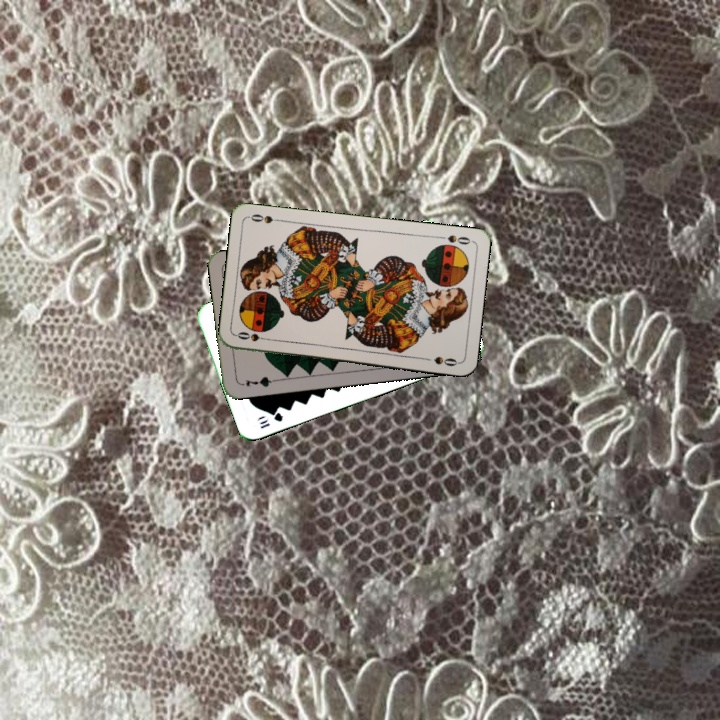G10: (256, 408, 285, 431)
G7: (237, 373, 277, 390)
SO: (233, 328, 274, 344), (434, 231, 473, 247)
